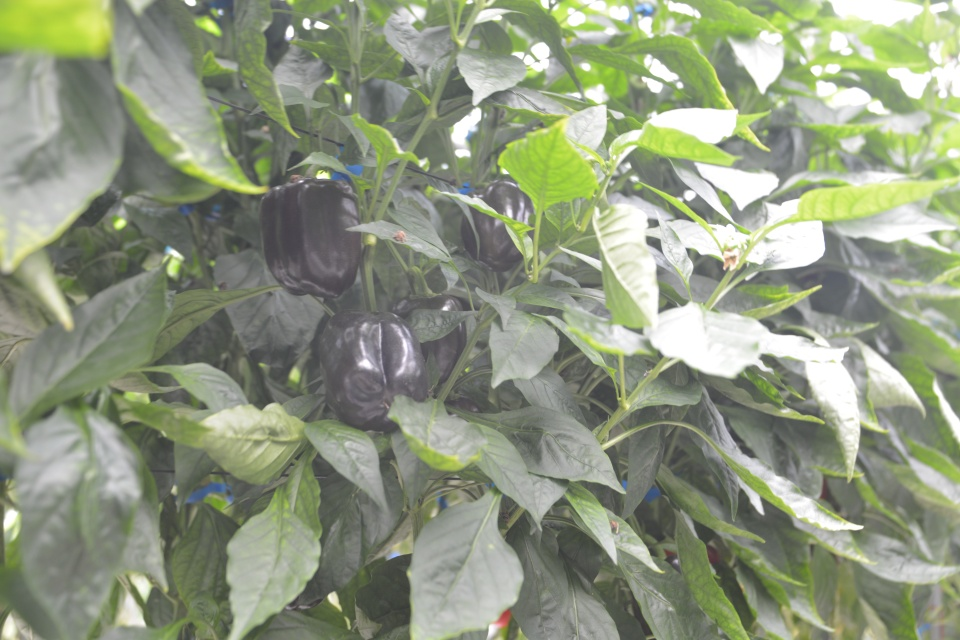fruit: (318, 308, 431, 435), (256, 178, 365, 301), (458, 181, 538, 271)
